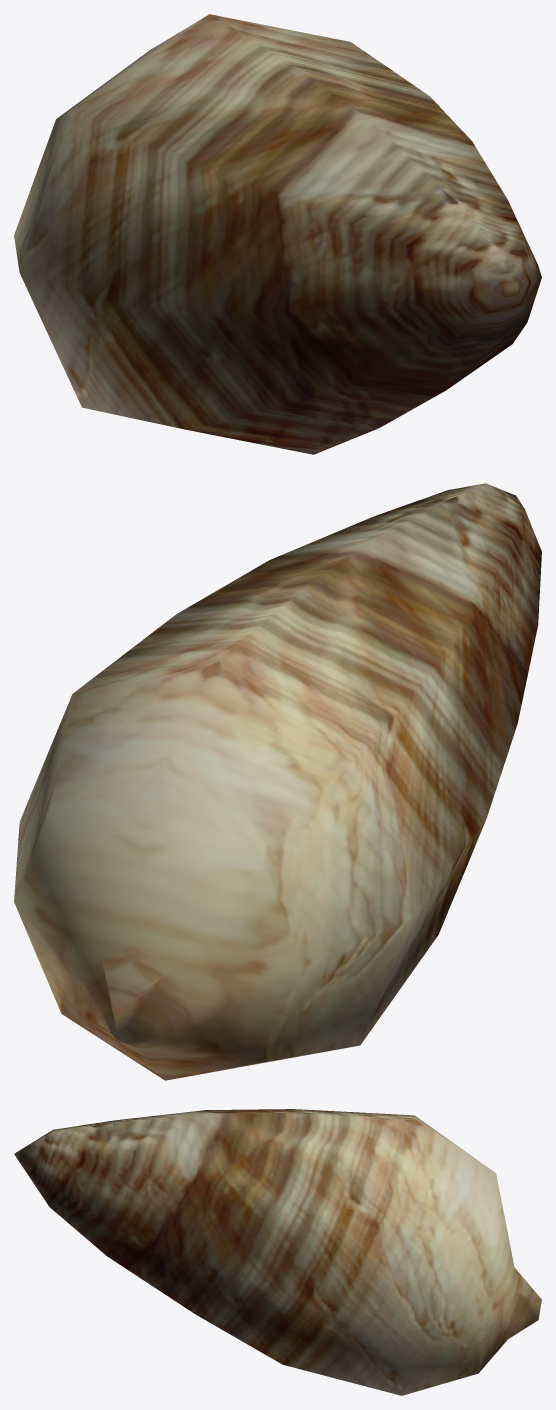
File: sea_shell_0.fbx
3 renders of one model, top to bottom at view 1: azimuth 30°, elevation 25°; view 2: azimuth 150°, elevation 25°; view 3: azimuth 270°, elevation 25°, orthographic. The views are drawn at different scales.
Parts seen in each view (by area): view 1: shell_0_mesh; view 2: shell_0_mesh; view 3: shell_0_mesh.
Boxes of the visible parts, x1,y1,x2,y2 form: shell_0_mesh: (14,14,541,454); shell_0_mesh: (14,483,541,1080); shell_0_mesh: (14,1109,541,1395).
Size of the model in its own units: 0.1747 by 0.1787 by 0.3085.
